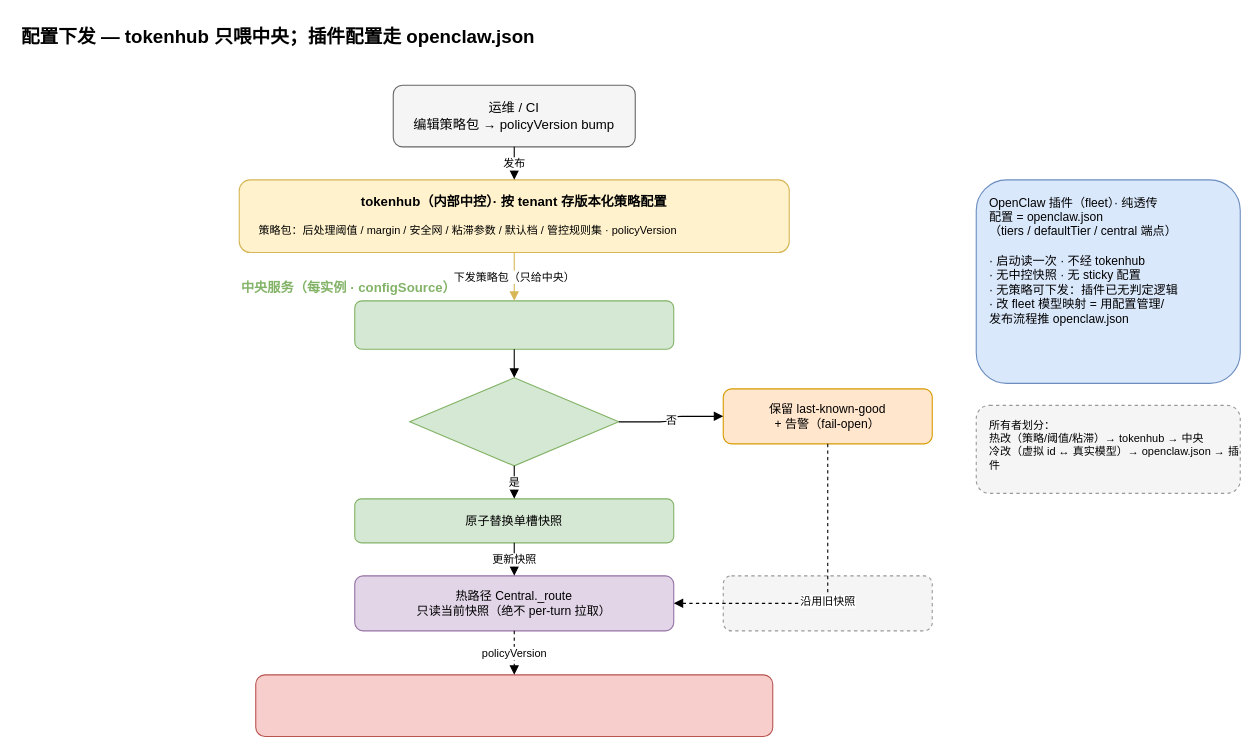
The diagram is 1260 pixels wide and 756 high, and some of its shapes have lost their labels. The centre of each missing label's shape, as x and y in pixels:
decisionId 决策轨迹（MySQL · 无明文）记 policyVersion → 任意一次路由都能回放它当时用的是哪版策略（可复现 / 可回滚）: pixel 514 705
兜底：SQUILLA_* env + SQUILLA_POLICY_FILE （引导 + tokenhub 不可达时）: pixel 827 603
后台定时拉取(≈30s) GET /config/policy?tenant=…: pixel 514 324
校验通过？ (schema): pixel 514 421
